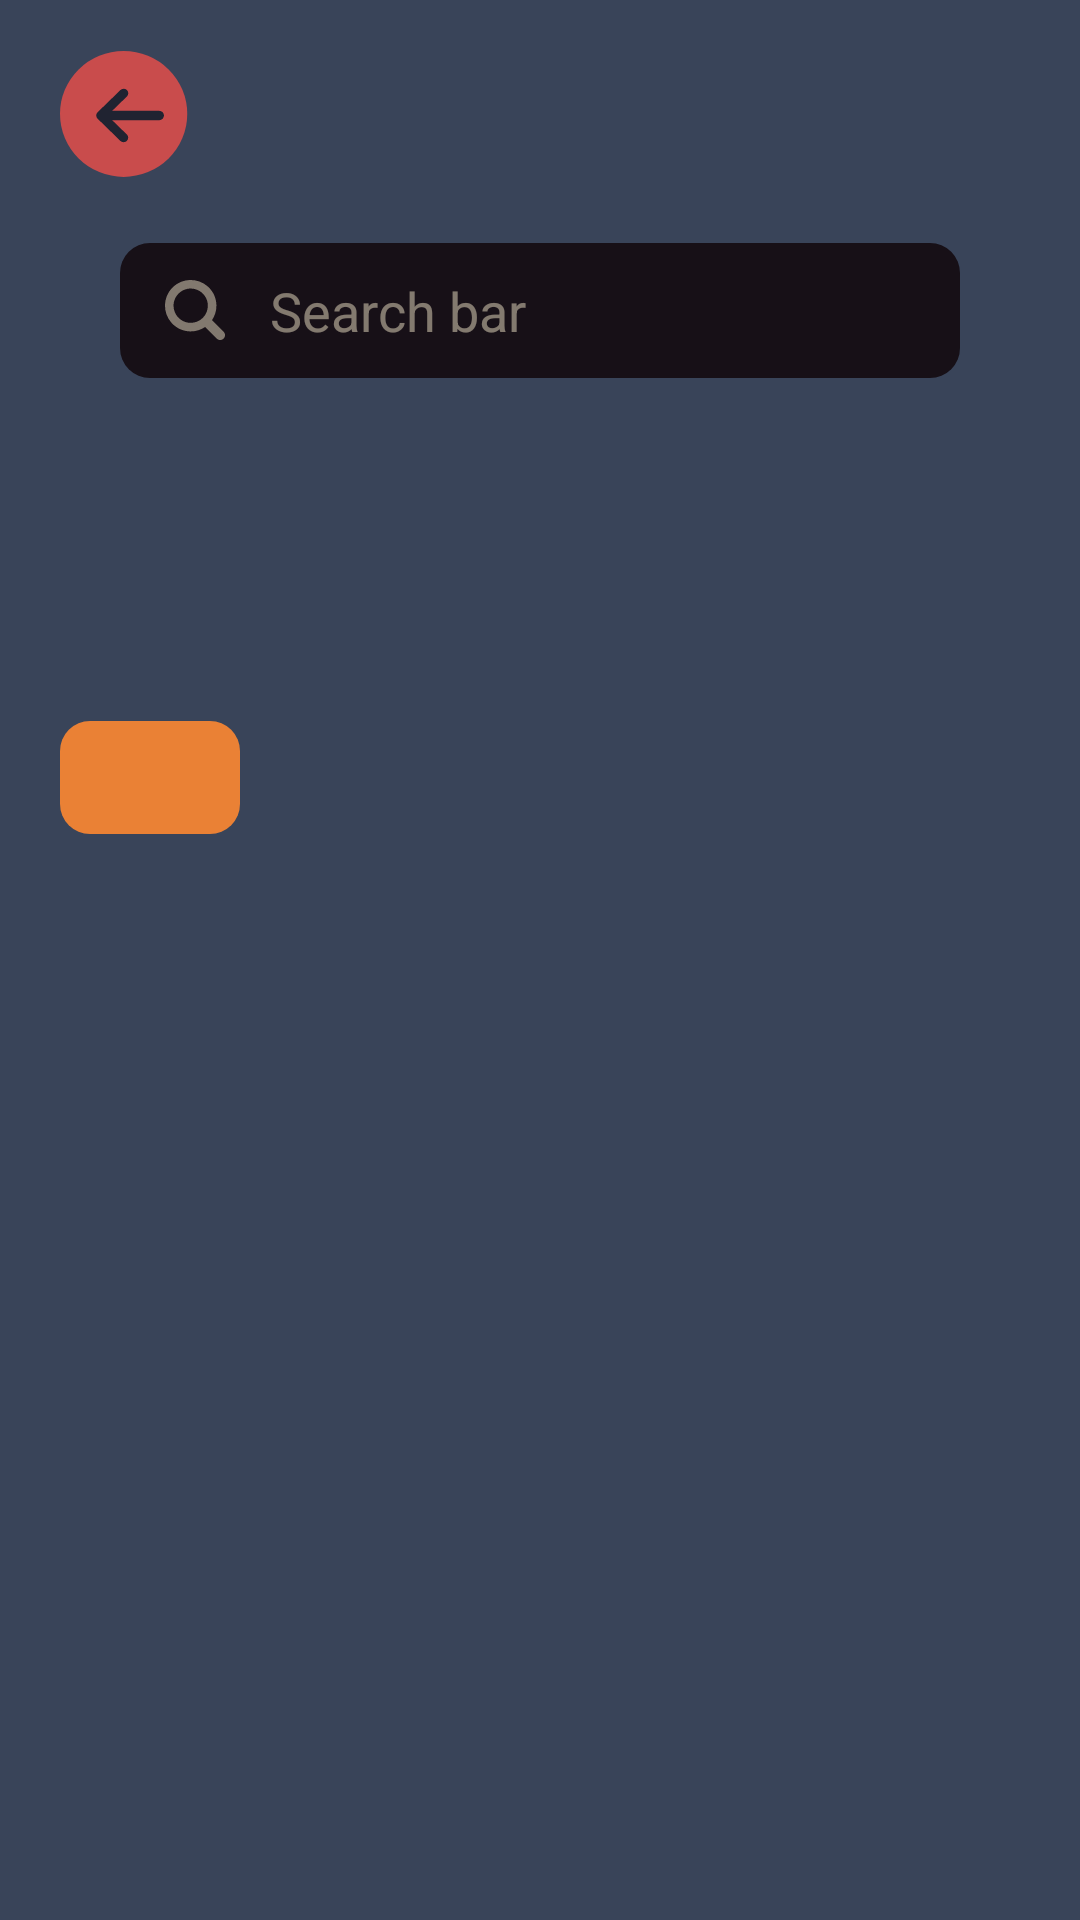

Where to tap for icons on this 1080px×1920px app screen, as (x,y):
circle arrow left: (124,114)
